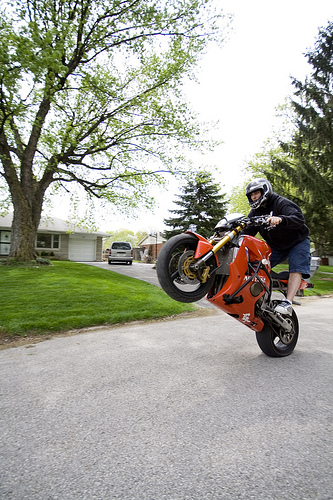helmet: (240, 177, 271, 204)
